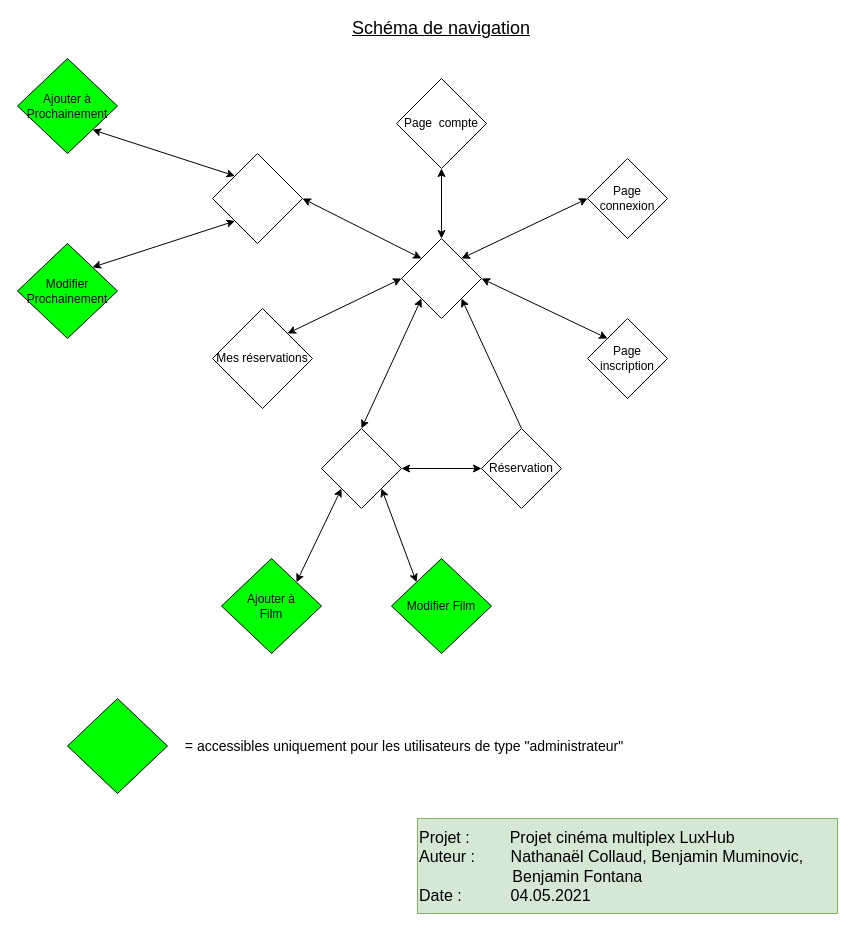
Image size: 855x931. Some labels were removed from this diagram. Here are the shapes that lost their labels. From the top down, the centre of each, then its label:
the point at 257,198: Prochainement
the point at 441,278: Page accueil
the point at 361,468: Films
